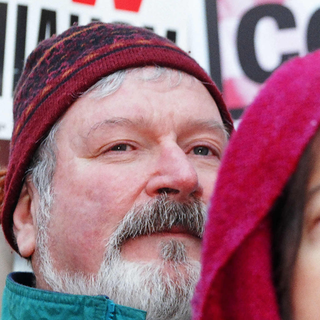eye: (96, 135, 144, 161), (180, 140, 222, 162)
